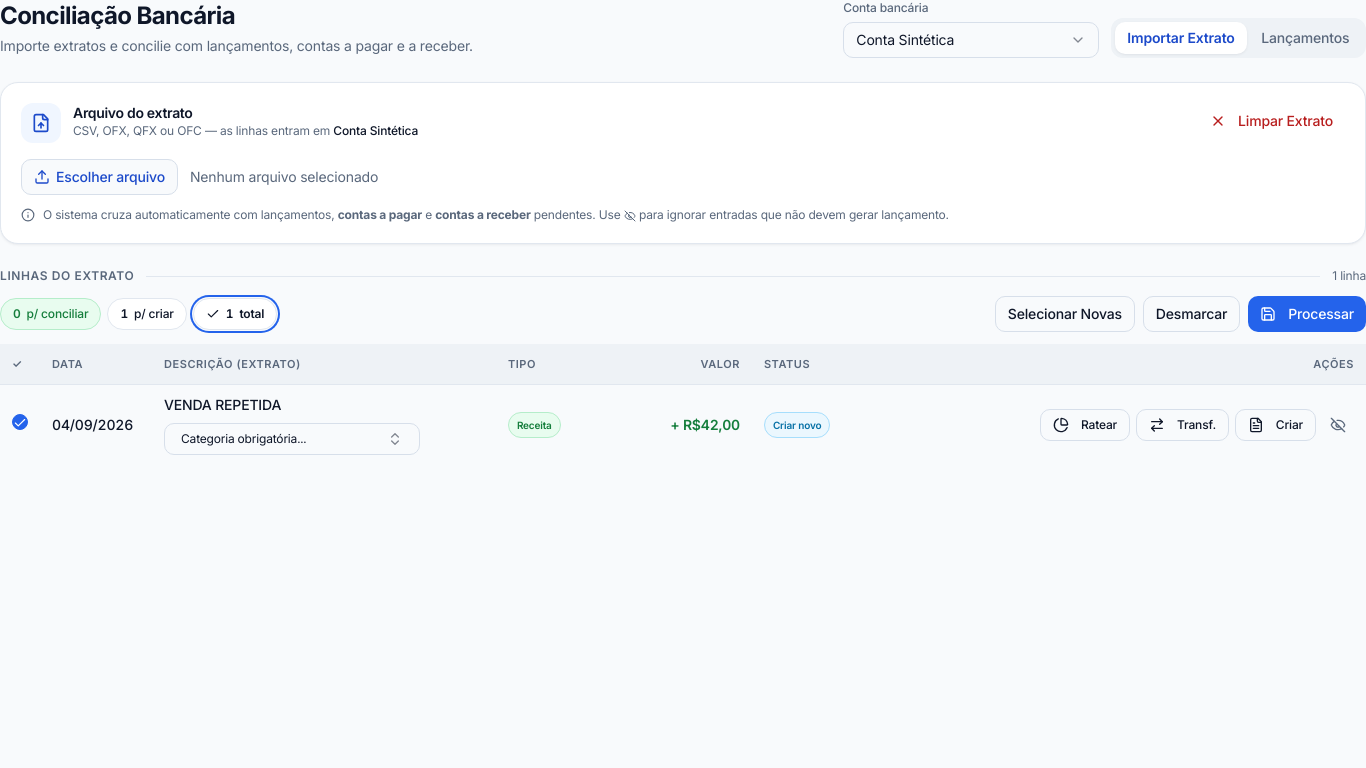
Scenario: Conciliação Bancária — visão Importar (rascunho restaurado) › possível duplicata: mesmo payload de antes (ocorrência 0) e decisão com os mesmos botões
This screenshot has width=1366, height=768.
Step 1. Click the button "Processar" → (1307, 314), box [1248,296,1365,332]
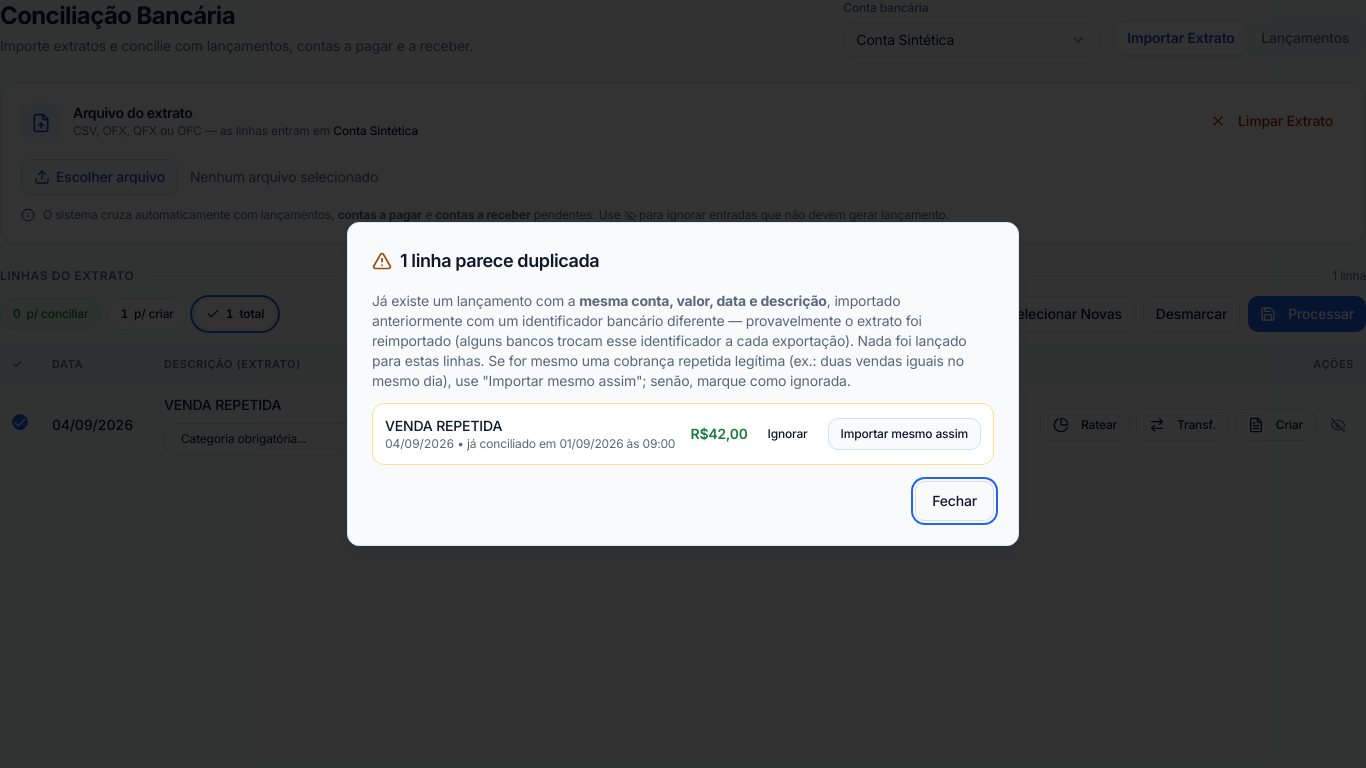
Now the dialog shows "1 linha parece duplicada", box [400,250,599,271]
Now the dialog shows "VENDA REPETIDA", box [385,417,502,434]
Now the button "Ignorar" is shown, box [756,418,820,450]
